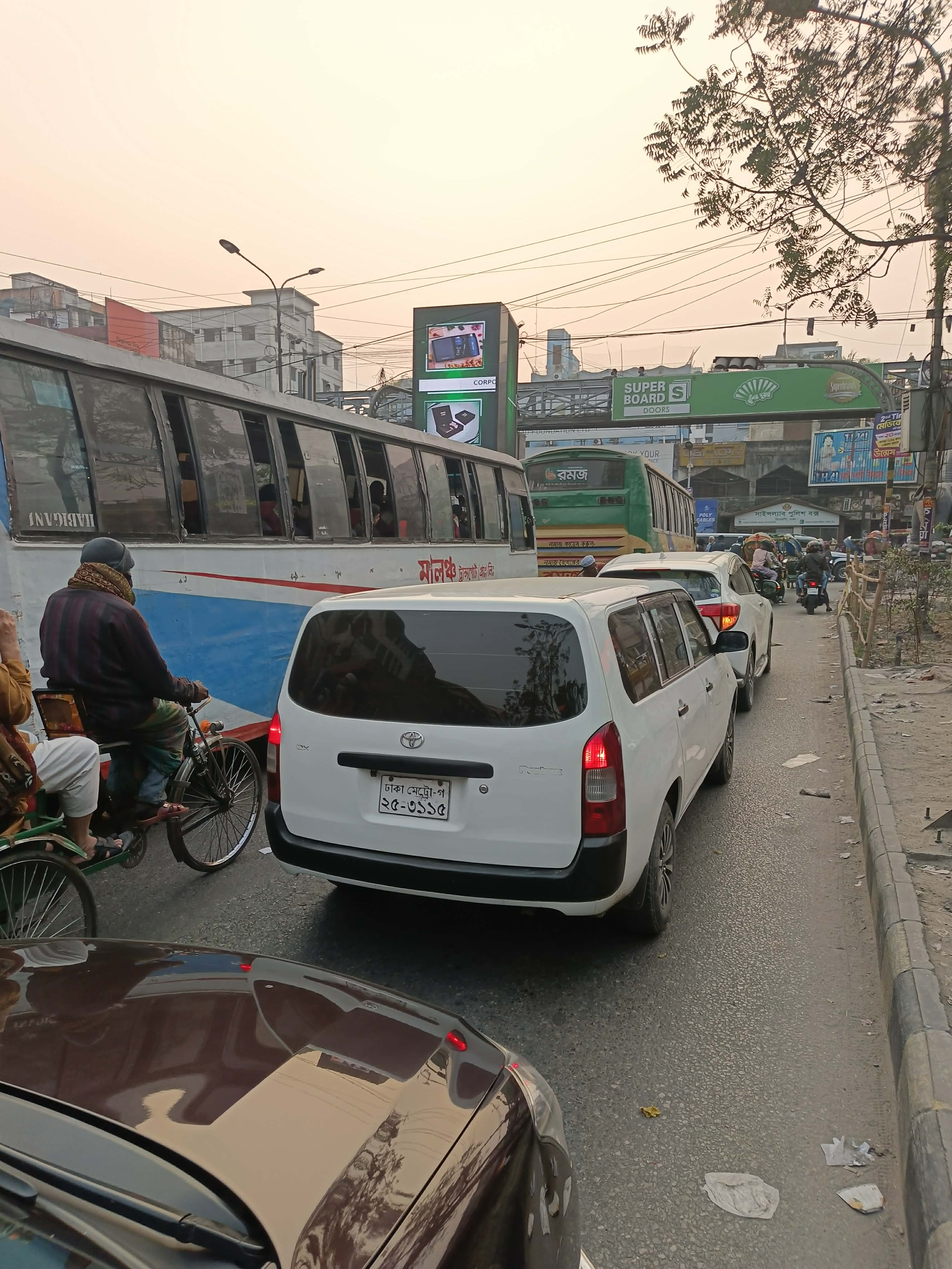Bikes: (800, 538, 845, 618), (749, 543, 797, 600)
Bus: (0, 291, 565, 700), (515, 419, 725, 585)
auto-ricksaw: (0, 525, 270, 935), (739, 526, 789, 565)
private car: (12, 841, 732, 1269), (284, 556, 752, 952), (581, 516, 777, 722)
